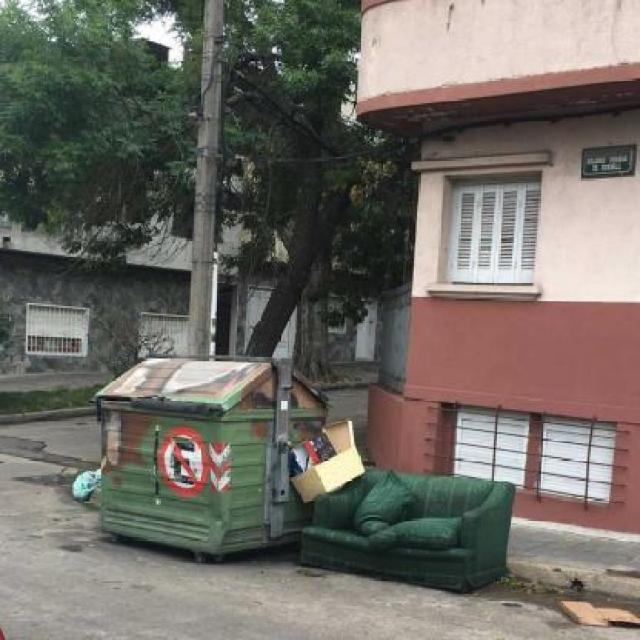garbage: (275, 415, 530, 596), (557, 594, 640, 640), (57, 456, 107, 517)
